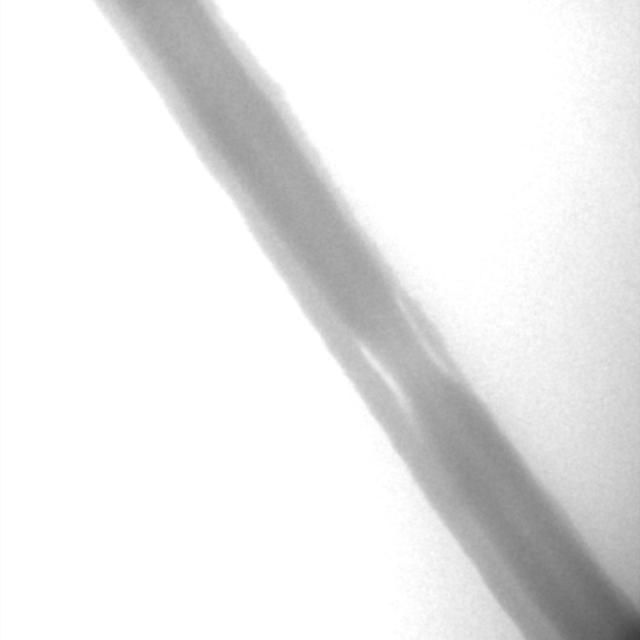unfused: (355, 297, 454, 407)
